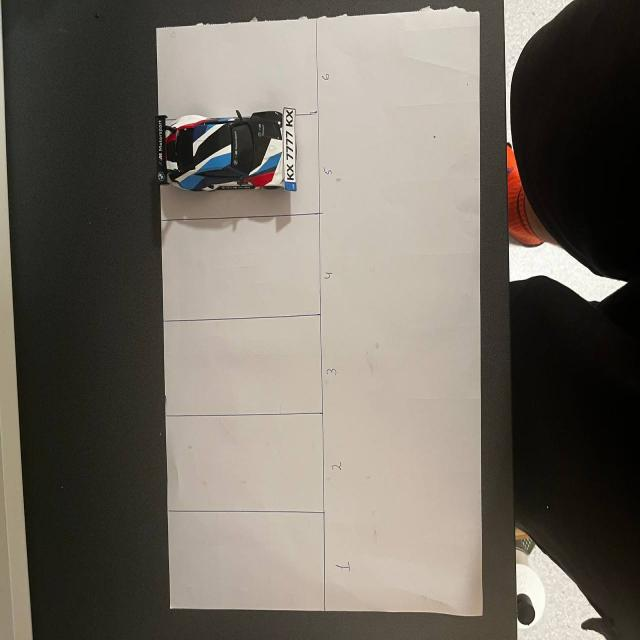KX 7777 KX: (282, 104, 303, 190)
